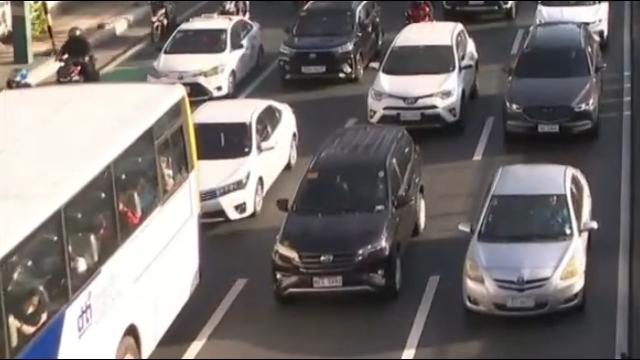bus: (1, 80, 203, 360)
car: (269, 120, 430, 307), (455, 159, 602, 322), (188, 96, 300, 226), (501, 20, 606, 147), (365, 19, 482, 130), (146, 13, 265, 100), (277, 0, 386, 85), (531, 1, 609, 50)
motorcycle: (51, 25, 111, 97), (143, 0, 178, 47), (403, 1, 433, 25)
